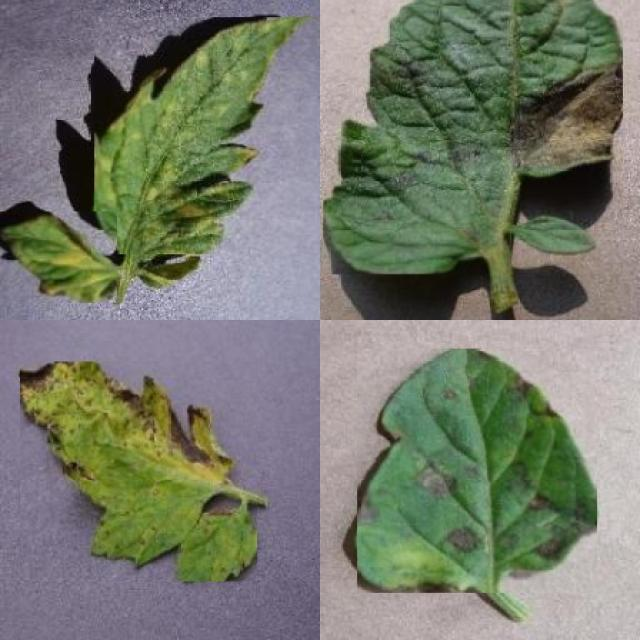Early Blight: (357, 348, 597, 593)
Late Blight: (323, 0, 623, 274)
Leaf Mold: (95, 17, 318, 254), (0, 212, 117, 302)
Septoria: (20, 362, 257, 582)
